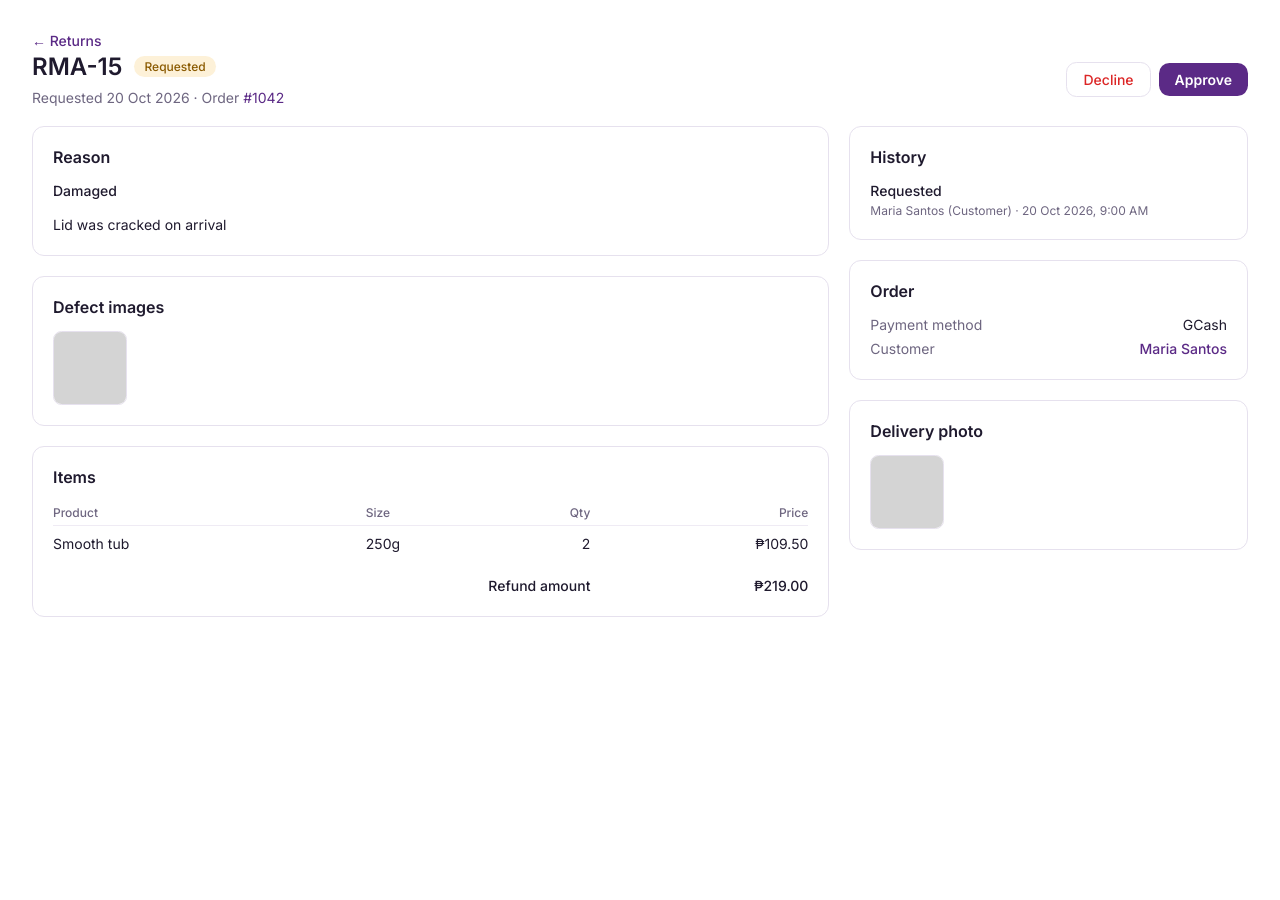
Test: approving › cannot be confirmed until Staff say whether the goods must come back
Click the button "Approve" at (1203, 79), box [1159,62,1248,96]
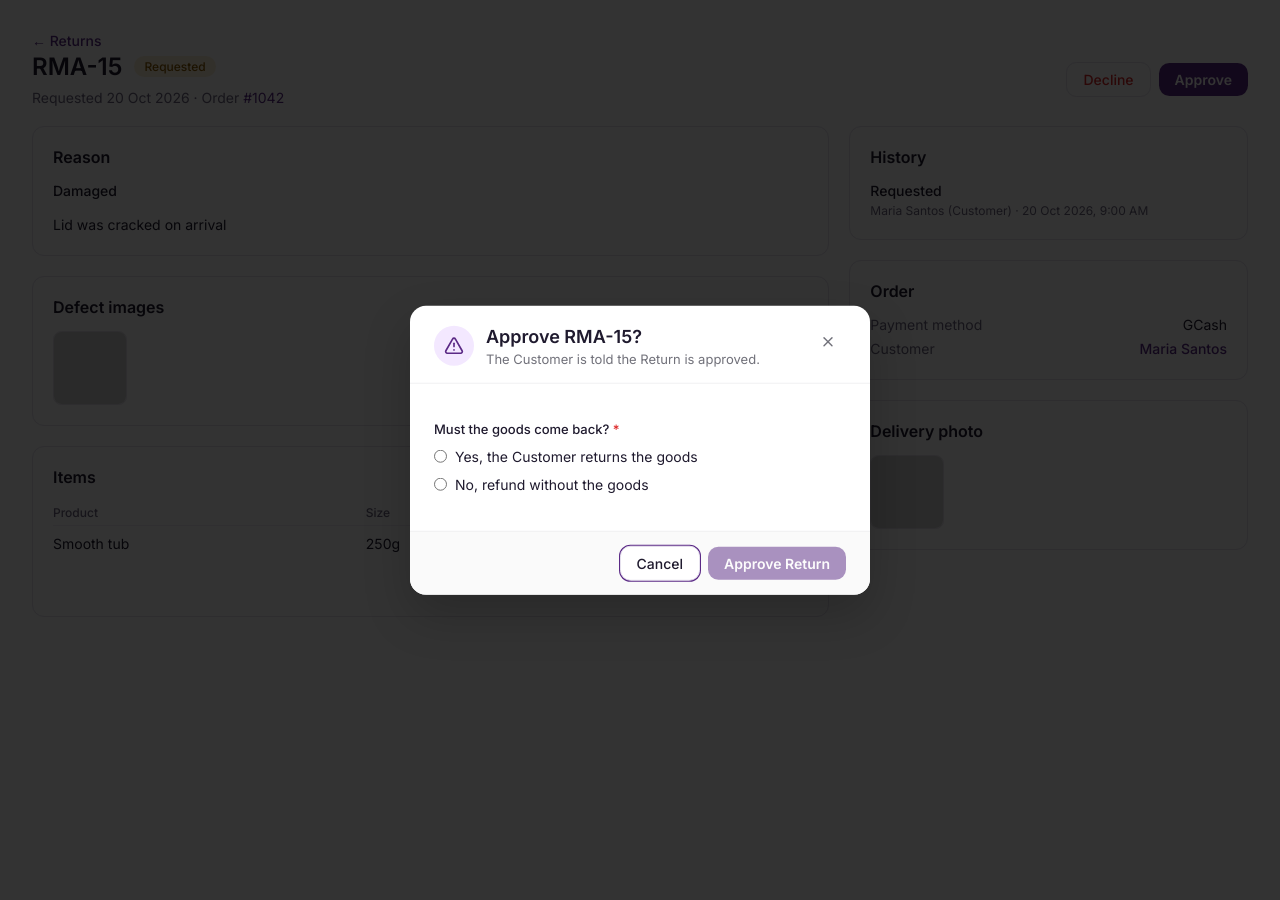
Expected: the button "Approve Return" is disabled, [708,546,846,579]
